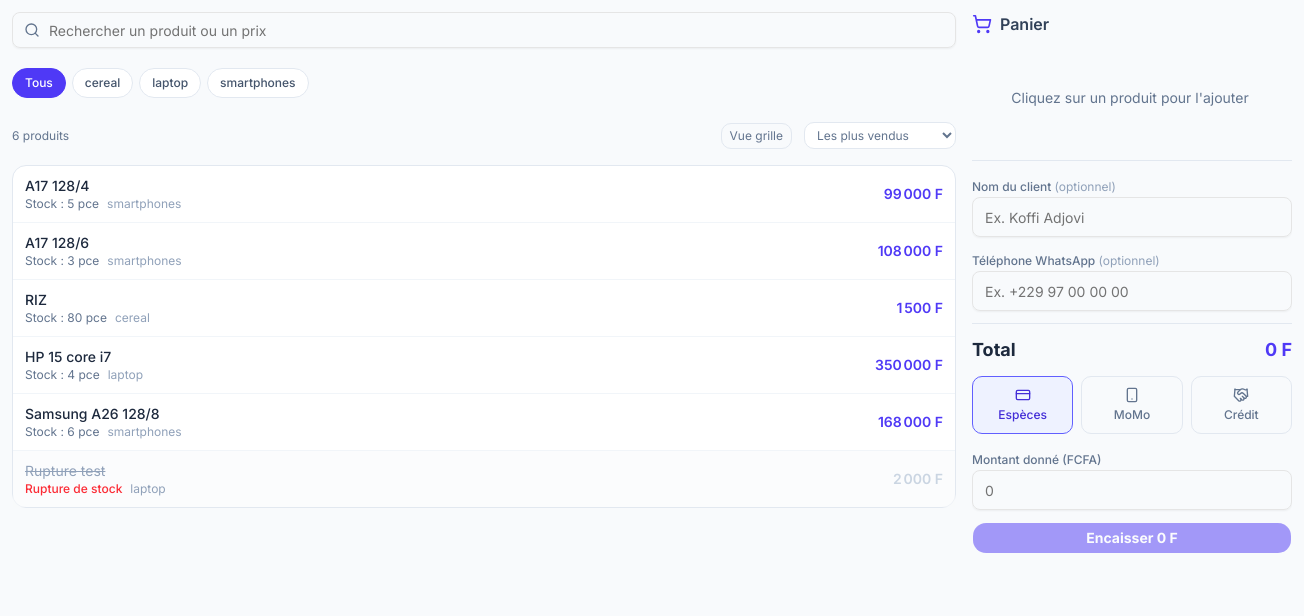
Test: POS — les articles cachés à la caisse › un article en rupture ne se met pas au panier
Click the text "Rupture test". click: (65, 470)
box: top-left (25, 462), bottom-right (105, 479)
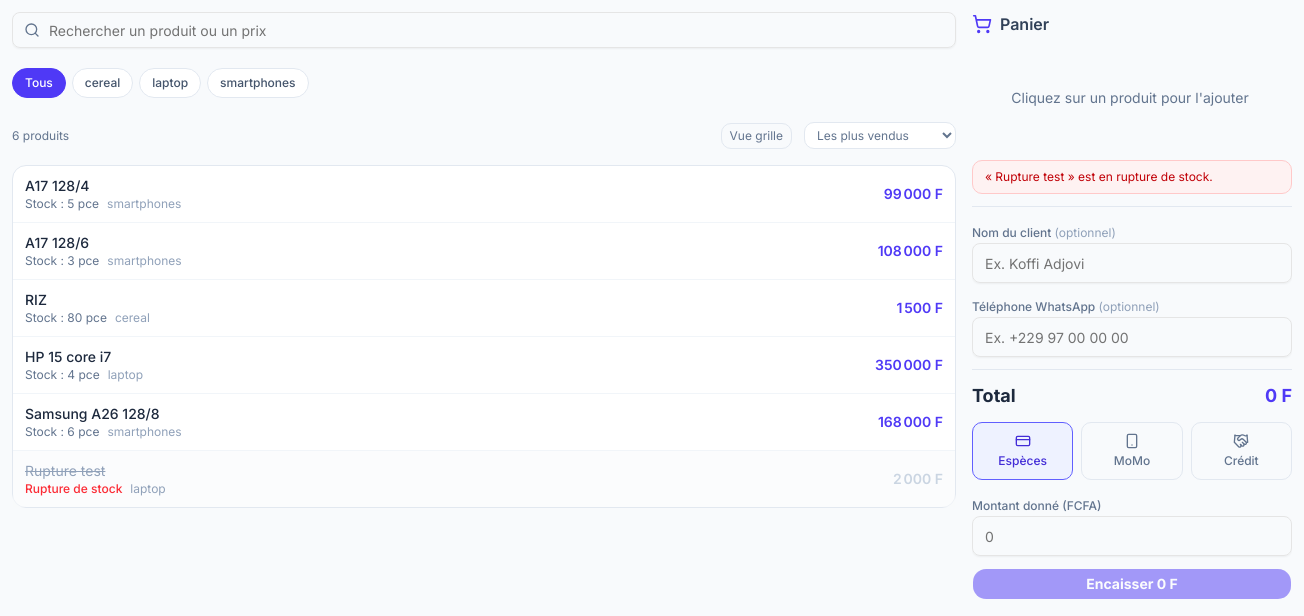
Result: the text "« Rupture test » est en rupture de stock." is shown at top-left (972, 160), bottom-right (1292, 194)
